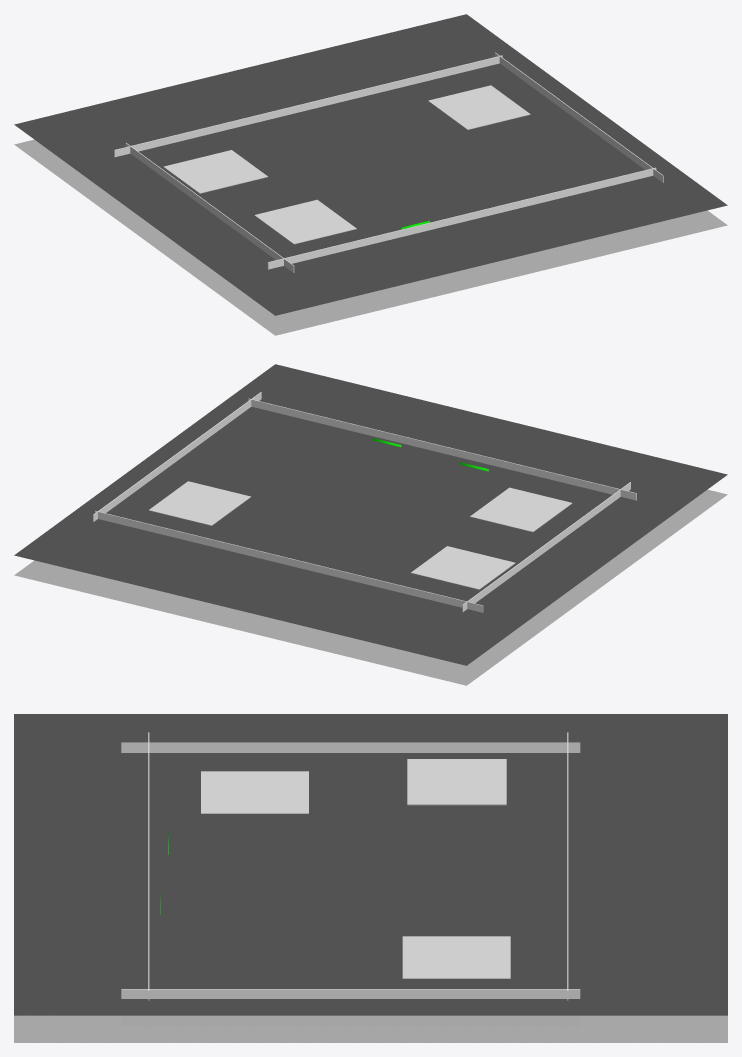
Rendered from floor4.glb.
3 renders of one model, top to bottom at view 1: azimuth 30°, elevation 25°; view 2: azimuth 150°, elevation 25°; view 3: azimuth 270°, elevation 25°, orthographic. The views are drawn at different scales.
Parts seen in each view (by area): view 1: Ceiling, Floor, Wall.001, Wall.002, Roomblock.001, Roomblock.002, Roomblock, Wall.003, Wall; view 2: Ceiling, Floor, Wall.001, Wall.002, Roomblock.001, Roomblock.002, Roomblock, Wall.003, Wall; view 3: Ceiling, Floor, Wall, Wall.003, Roomblock.001, Roomblock, Roomblock.002, Wall.001, Wall.002.
Part boxes in pixels (box(x1,y1,x2,y2)): Ceiling: box(14, 14, 727, 315); Floor: box(14, 139, 727, 335); Wall.001: box(114, 55, 502, 157); Wall.002: box(267, 167, 656, 269); Roomblock.001: box(163, 150, 267, 193); Roomblock.002: box(254, 199, 356, 244); Roomblock: box(428, 85, 530, 129); Wall.003: box(125, 143, 294, 272); Wall: box(495, 52, 663, 182); Ceiling: box(14, 364, 727, 665); Floor: box(14, 489, 727, 685); Wall.001: box(95, 511, 483, 612); Wall.002: box(248, 398, 636, 500); Roomblock.001: box(411, 546, 515, 589); Roomblock.002: box(470, 487, 572, 532); Roomblock: box(148, 481, 250, 525); Wall.003: box(462, 482, 630, 612); Wall: box(93, 392, 261, 521); Ceiling: box(14, 714, 727, 1015); Floor: box(14, 1015, 727, 1042); Wall: box(121, 989, 580, 1026); Wall.003: box(121, 742, 580, 752); Roomblock.001: box(407, 759, 506, 805); Roomblock: box(402, 936, 510, 978); Roomblock.002: box(201, 771, 308, 813); Wall.001: box(567, 732, 568, 1027); Wall.002: box(148, 732, 149, 1027).
Size of the model in its own units: 140 by 8.06 by 140.
Materials: 22 (8 with a texture image).
